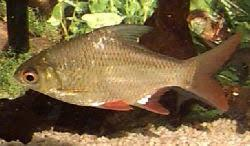Silver Barb: (13, 22, 242, 118)
